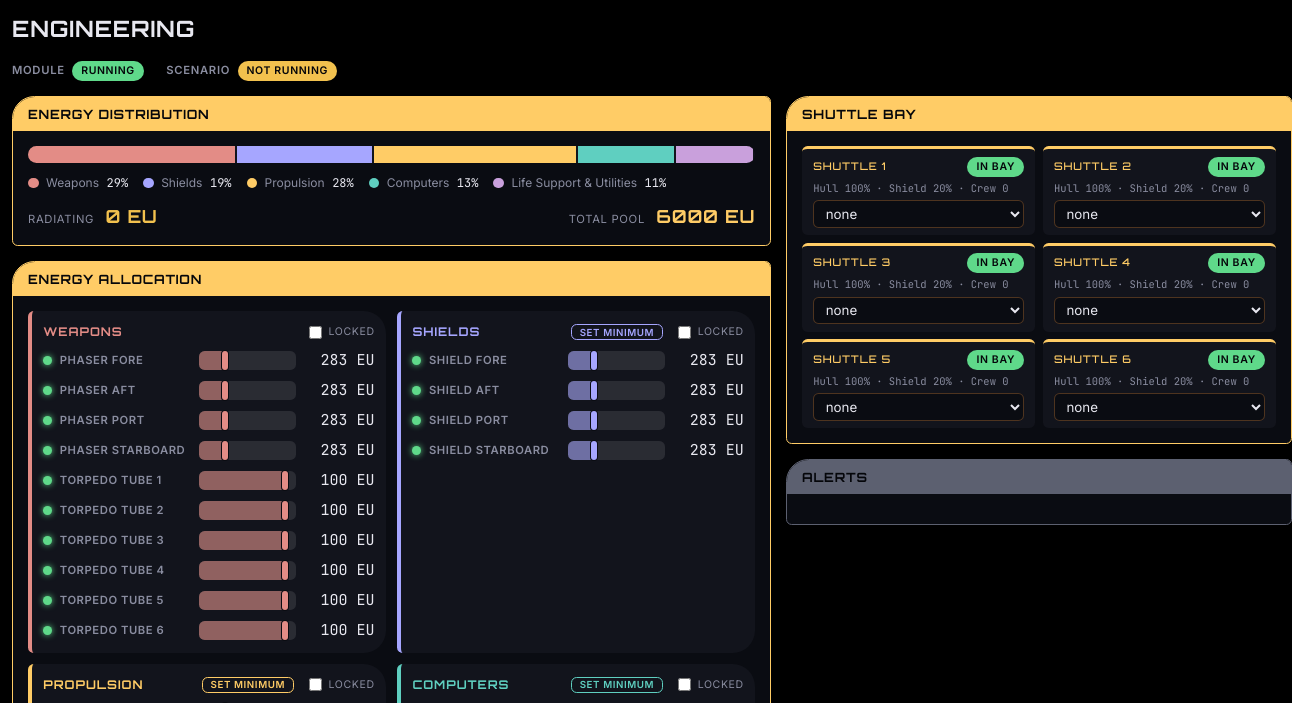
Test: EngineeringStation › requests 100 units for every shield when the shields minimum button is pressed
Click the button with aria-label "Set Shields to minimum".
click(617, 332)  # box [571, 324, 663, 340]
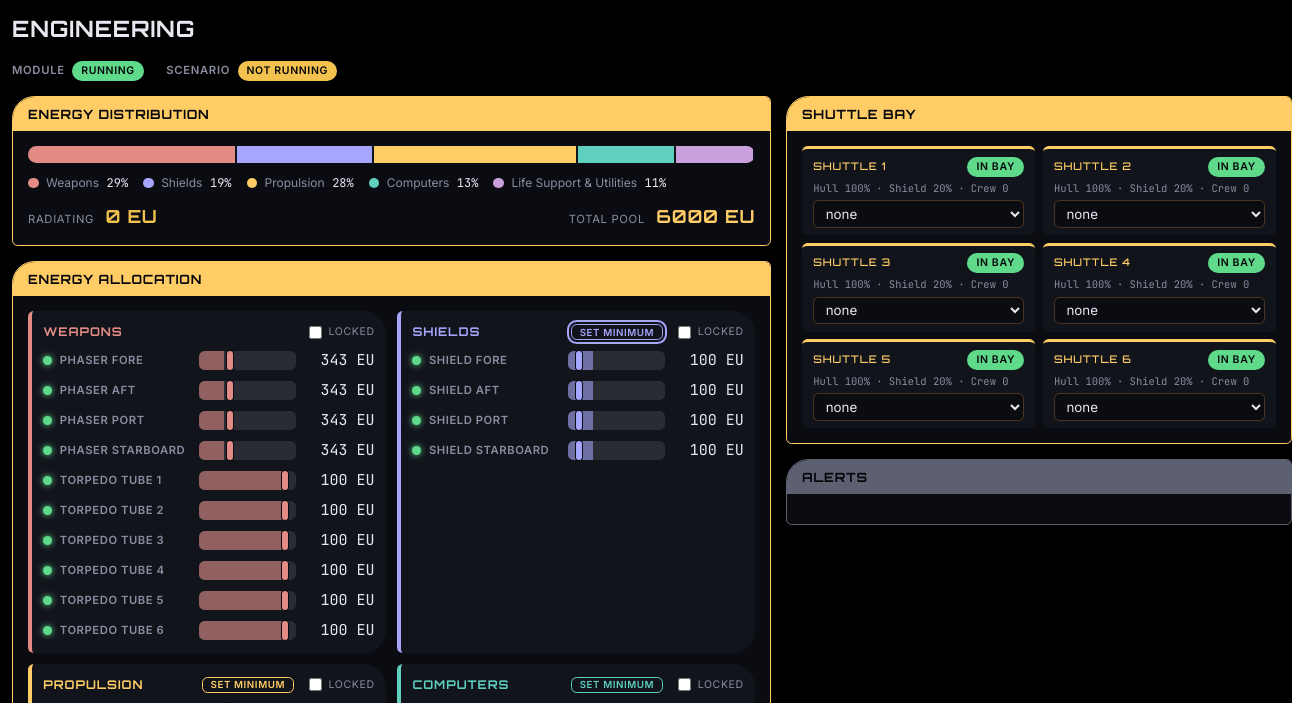
Now the text with test id "device-shield-fore-energy" shows "100", box [690, 350, 744, 370]
